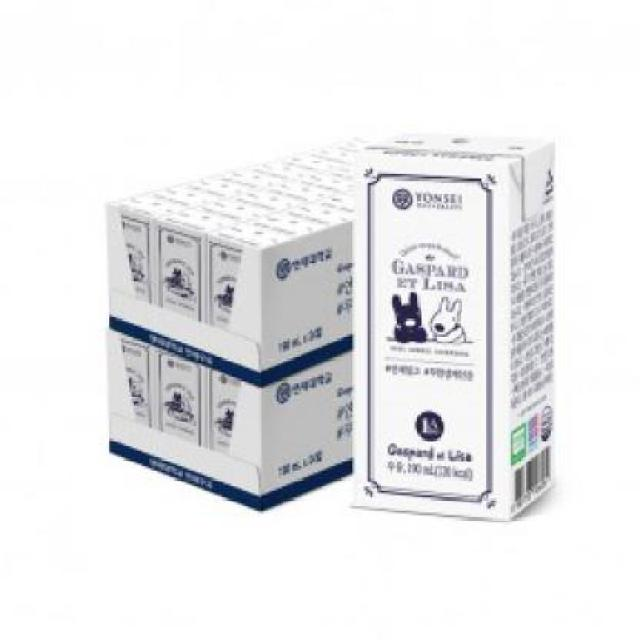tetra: (335, 108, 596, 532)
